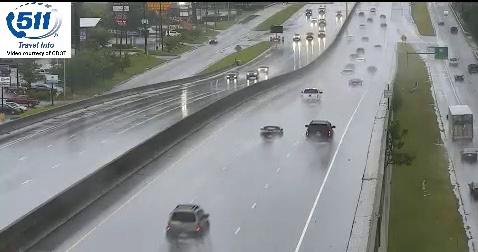car: (166, 205, 209, 240), (306, 120, 334, 142), (259, 125, 283, 140), (301, 88, 322, 103)
